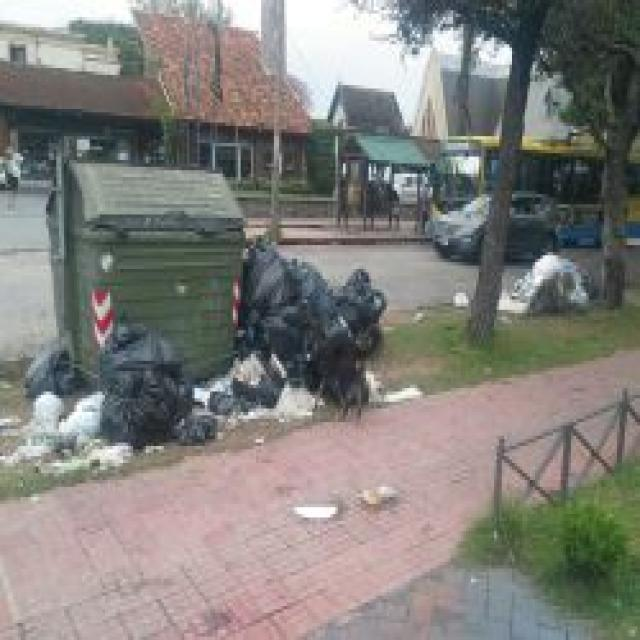garbage: (222, 232, 386, 442), (21, 323, 220, 463), (495, 247, 594, 326)
